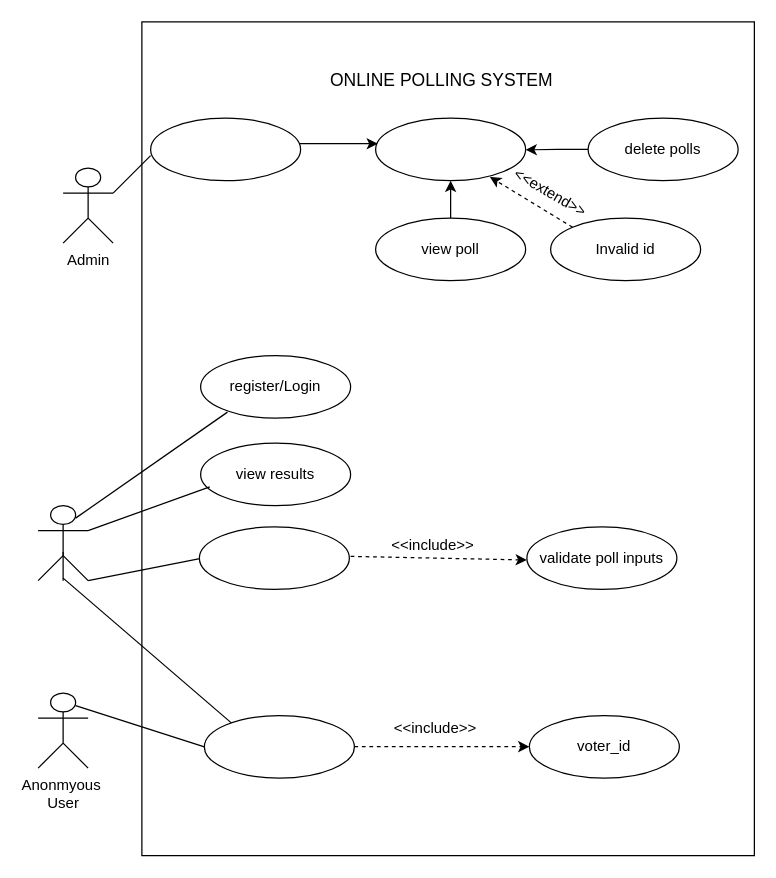
The diagram is 776 pixels wide and 878 high, and some of its shapes have lost their labels. The shapes that lost their labels are listed below. From the top down, each one's centre as x and y in pixels, then its label:
At [225,149]: "Manage polls".
At [450,149]: "Poll".
At [62,542]: "User".
At [273,557]: "create Poll".
At [278,746]: "vote on poll".
